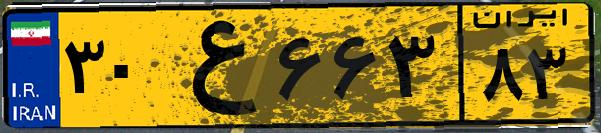0: (110, 28, 158, 98)
3: (385, 28, 445, 110), (57, 26, 110, 100), (525, 38, 570, 115)
6: (270, 28, 330, 110), (330, 28, 385, 110)
8: (475, 38, 525, 113)
ع: (158, 12, 270, 120)
